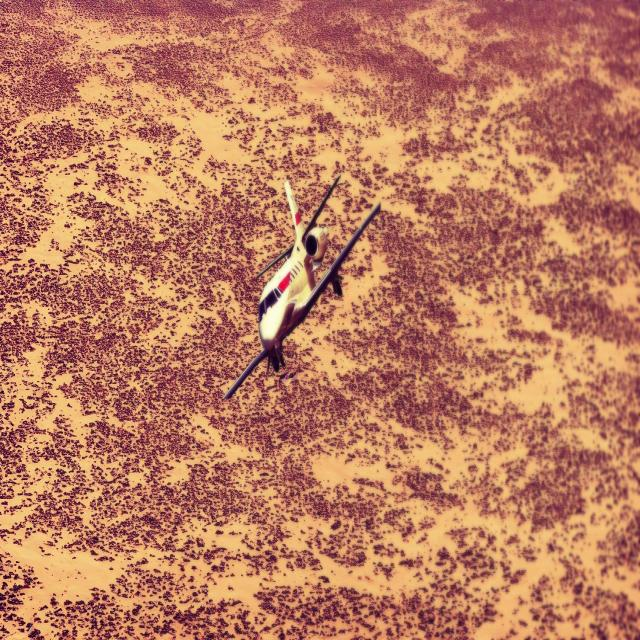airplane: (221, 173, 381, 401)
